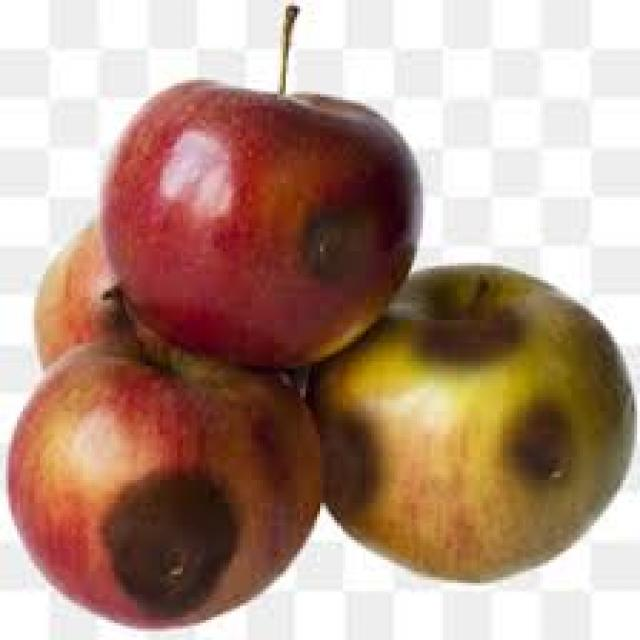organic waste: (97, 0, 417, 366), (3, 286, 320, 628), (300, 260, 634, 577), (26, 212, 263, 377)
